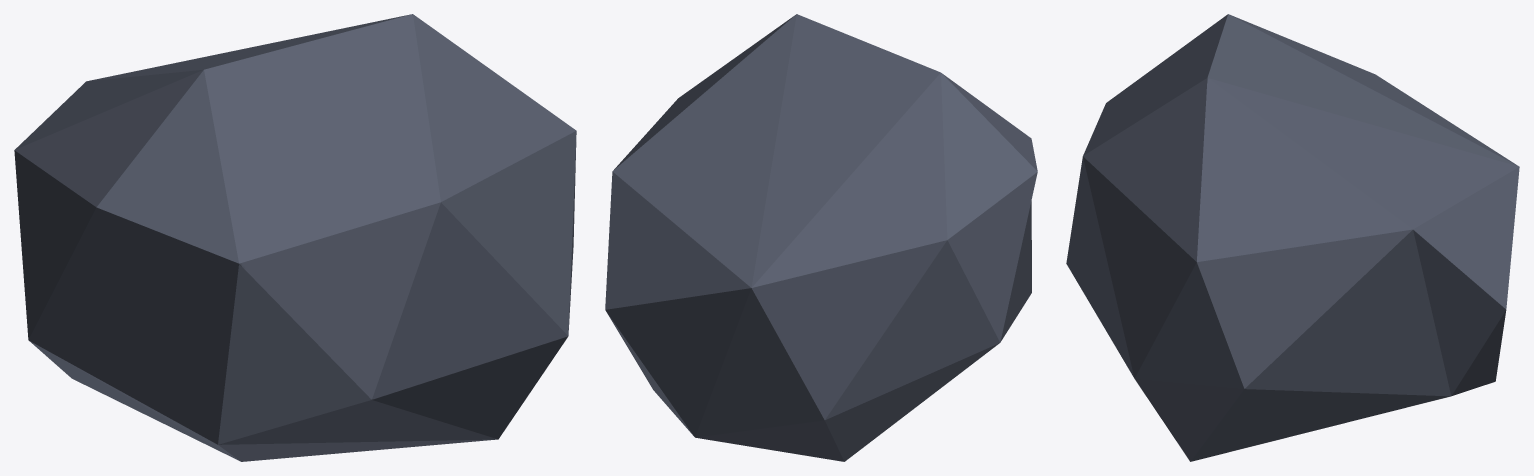
Rendered from Rock1.fbx.
3 renders of one model, left to right at view 1: azimuth 30°, elevation 25°; view 2: azimuth 150°, elevation 25°; view 3: azimuth 270°, elevation 25°, orthographic. The views are drawn at different scales.
Visible parts, largest first — view 1: Rock1; view 2: Rock1; view 3: Rock1.
Part boxes in pixels (x1=…): Rock1: x1=14, y1=14, x2=576, y2=461; Rock1: x1=605, y1=14, x2=1037, y2=461; Rock1: x1=1066, y1=14, x2=1519, y2=461.
Size of the model in its own units: 71.9 by 59.31 by 68.76.
